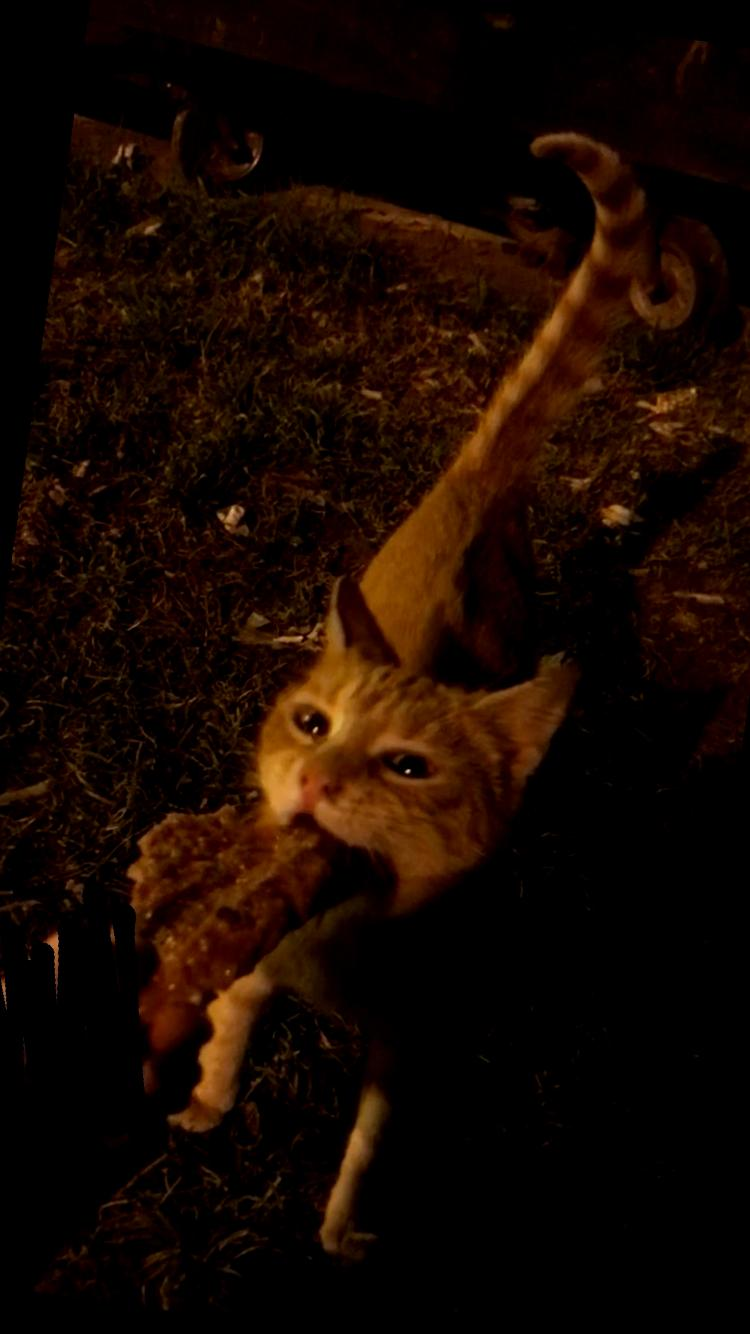macka: (164, 94, 693, 1289)
